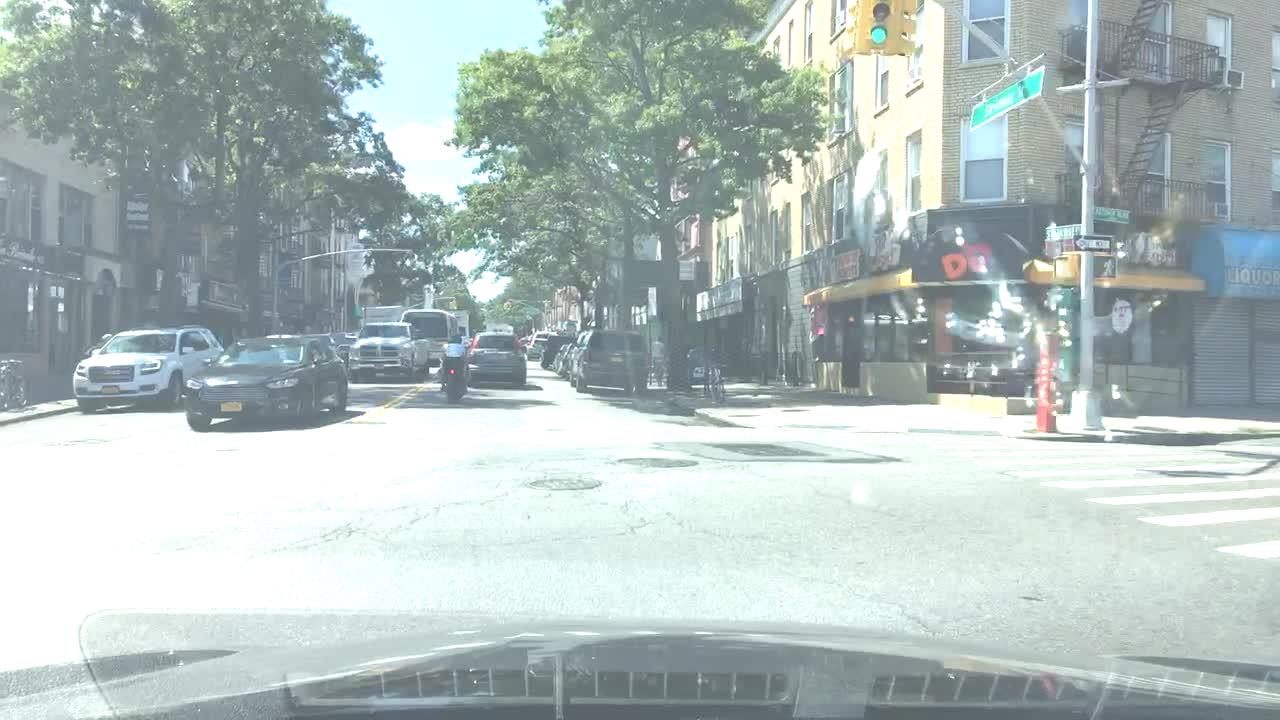GMC: (100, 368, 125, 378)
